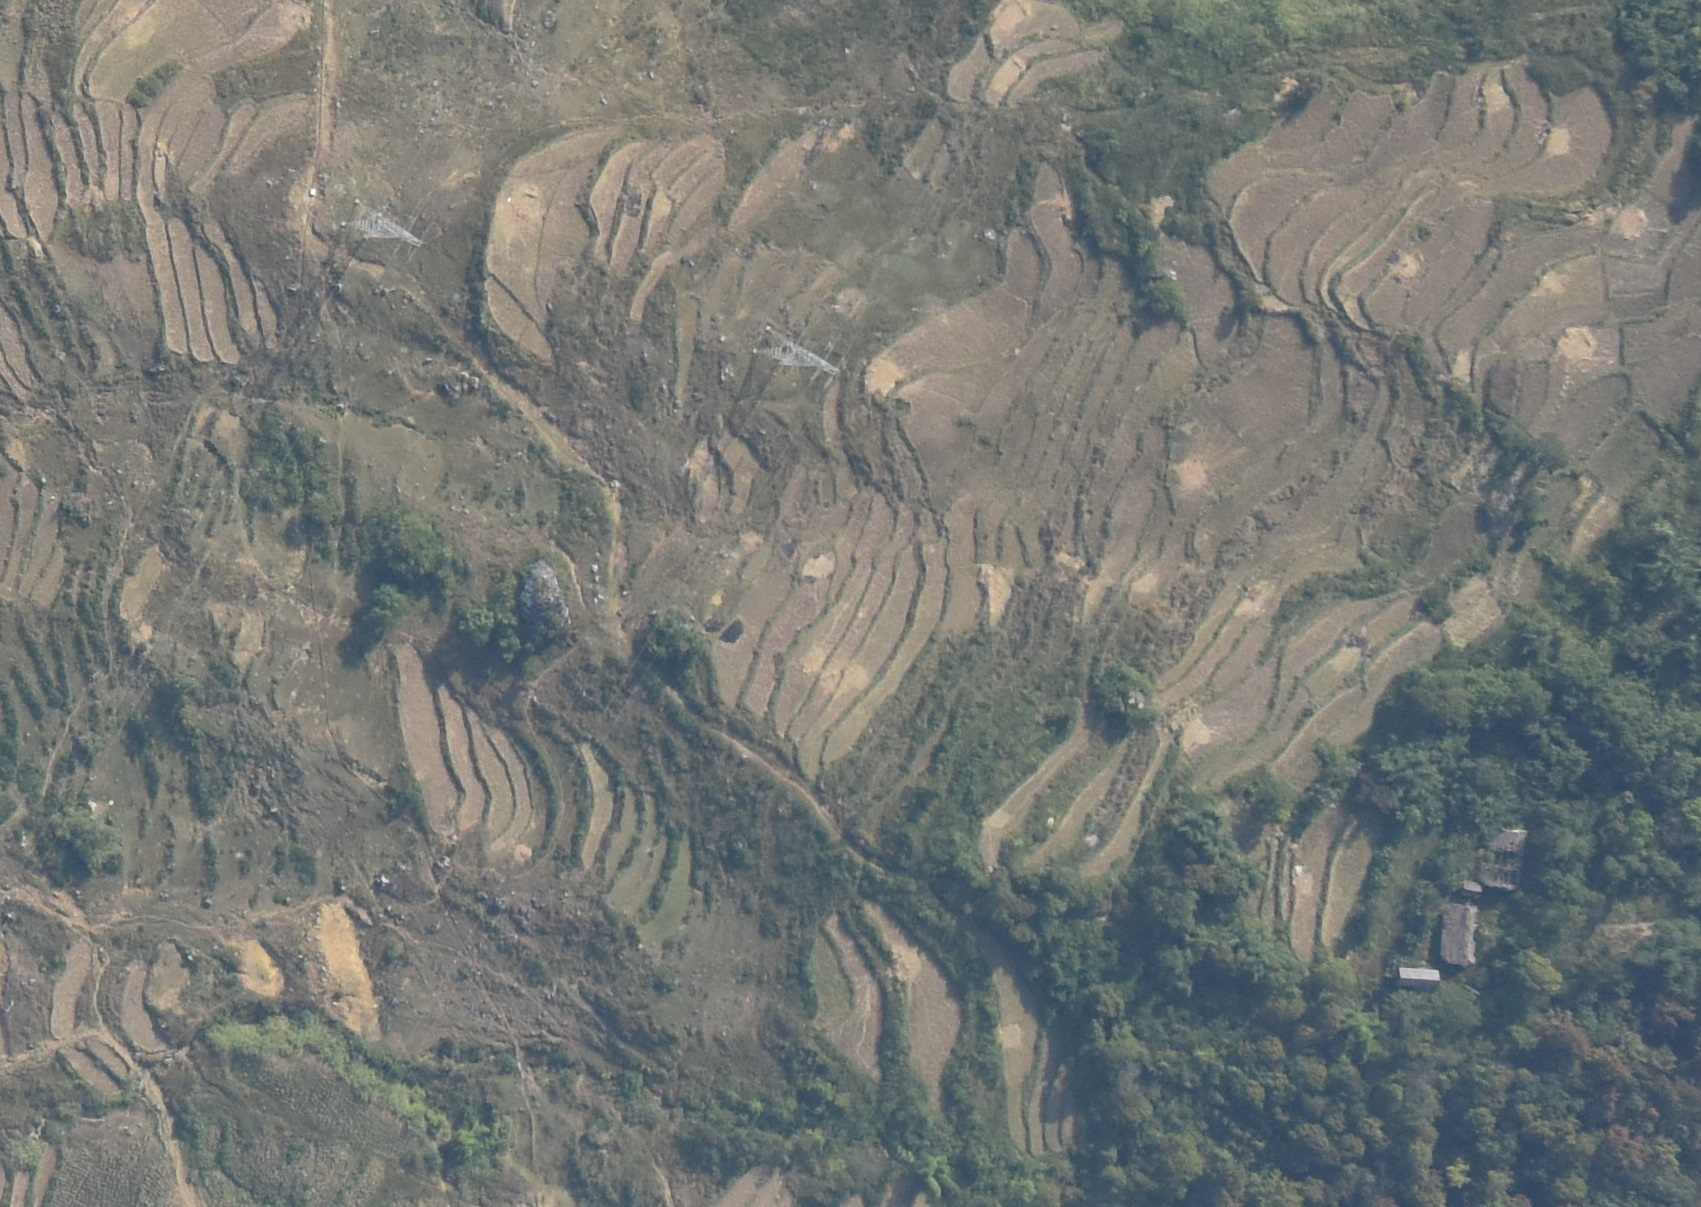building: (1484, 824, 1527, 890), (1442, 904, 1480, 967), (1398, 967, 1442, 991), (1461, 877, 1482, 897)
cable-tower: (753, 324, 845, 380), (349, 197, 431, 249)
